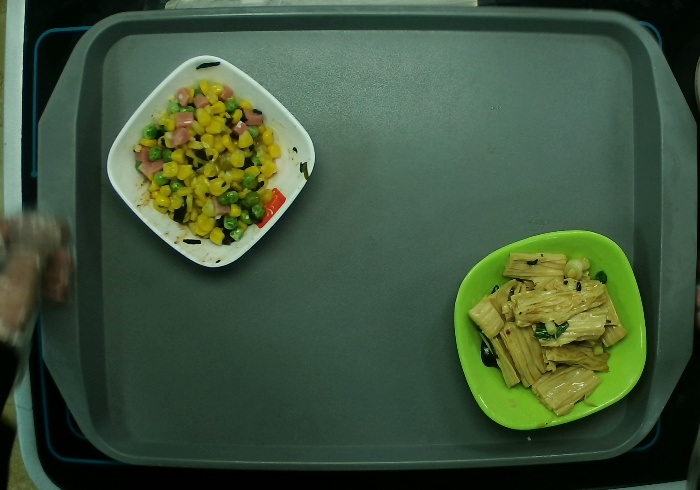SHKJ-Bai_Se_Xiao_Fang_Die: (105, 54, 317, 268)
SHKJ-Lv_Se_Cai_Die: (454, 230, 649, 432)
